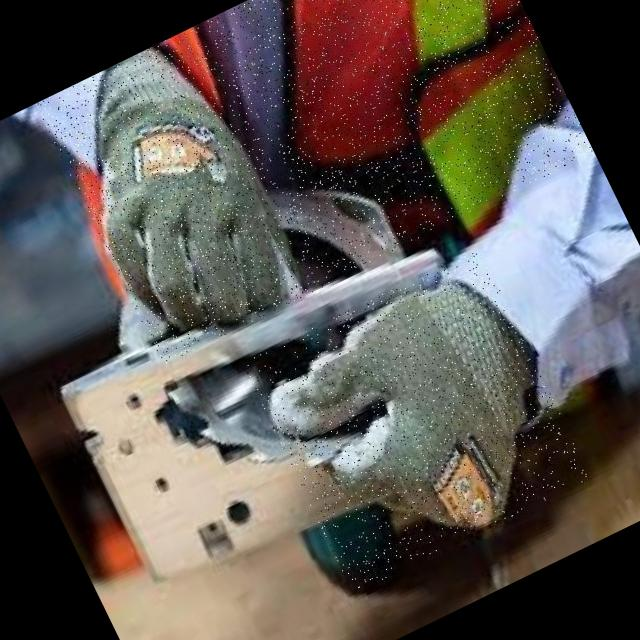safety_vest: (165, 0, 594, 299)
